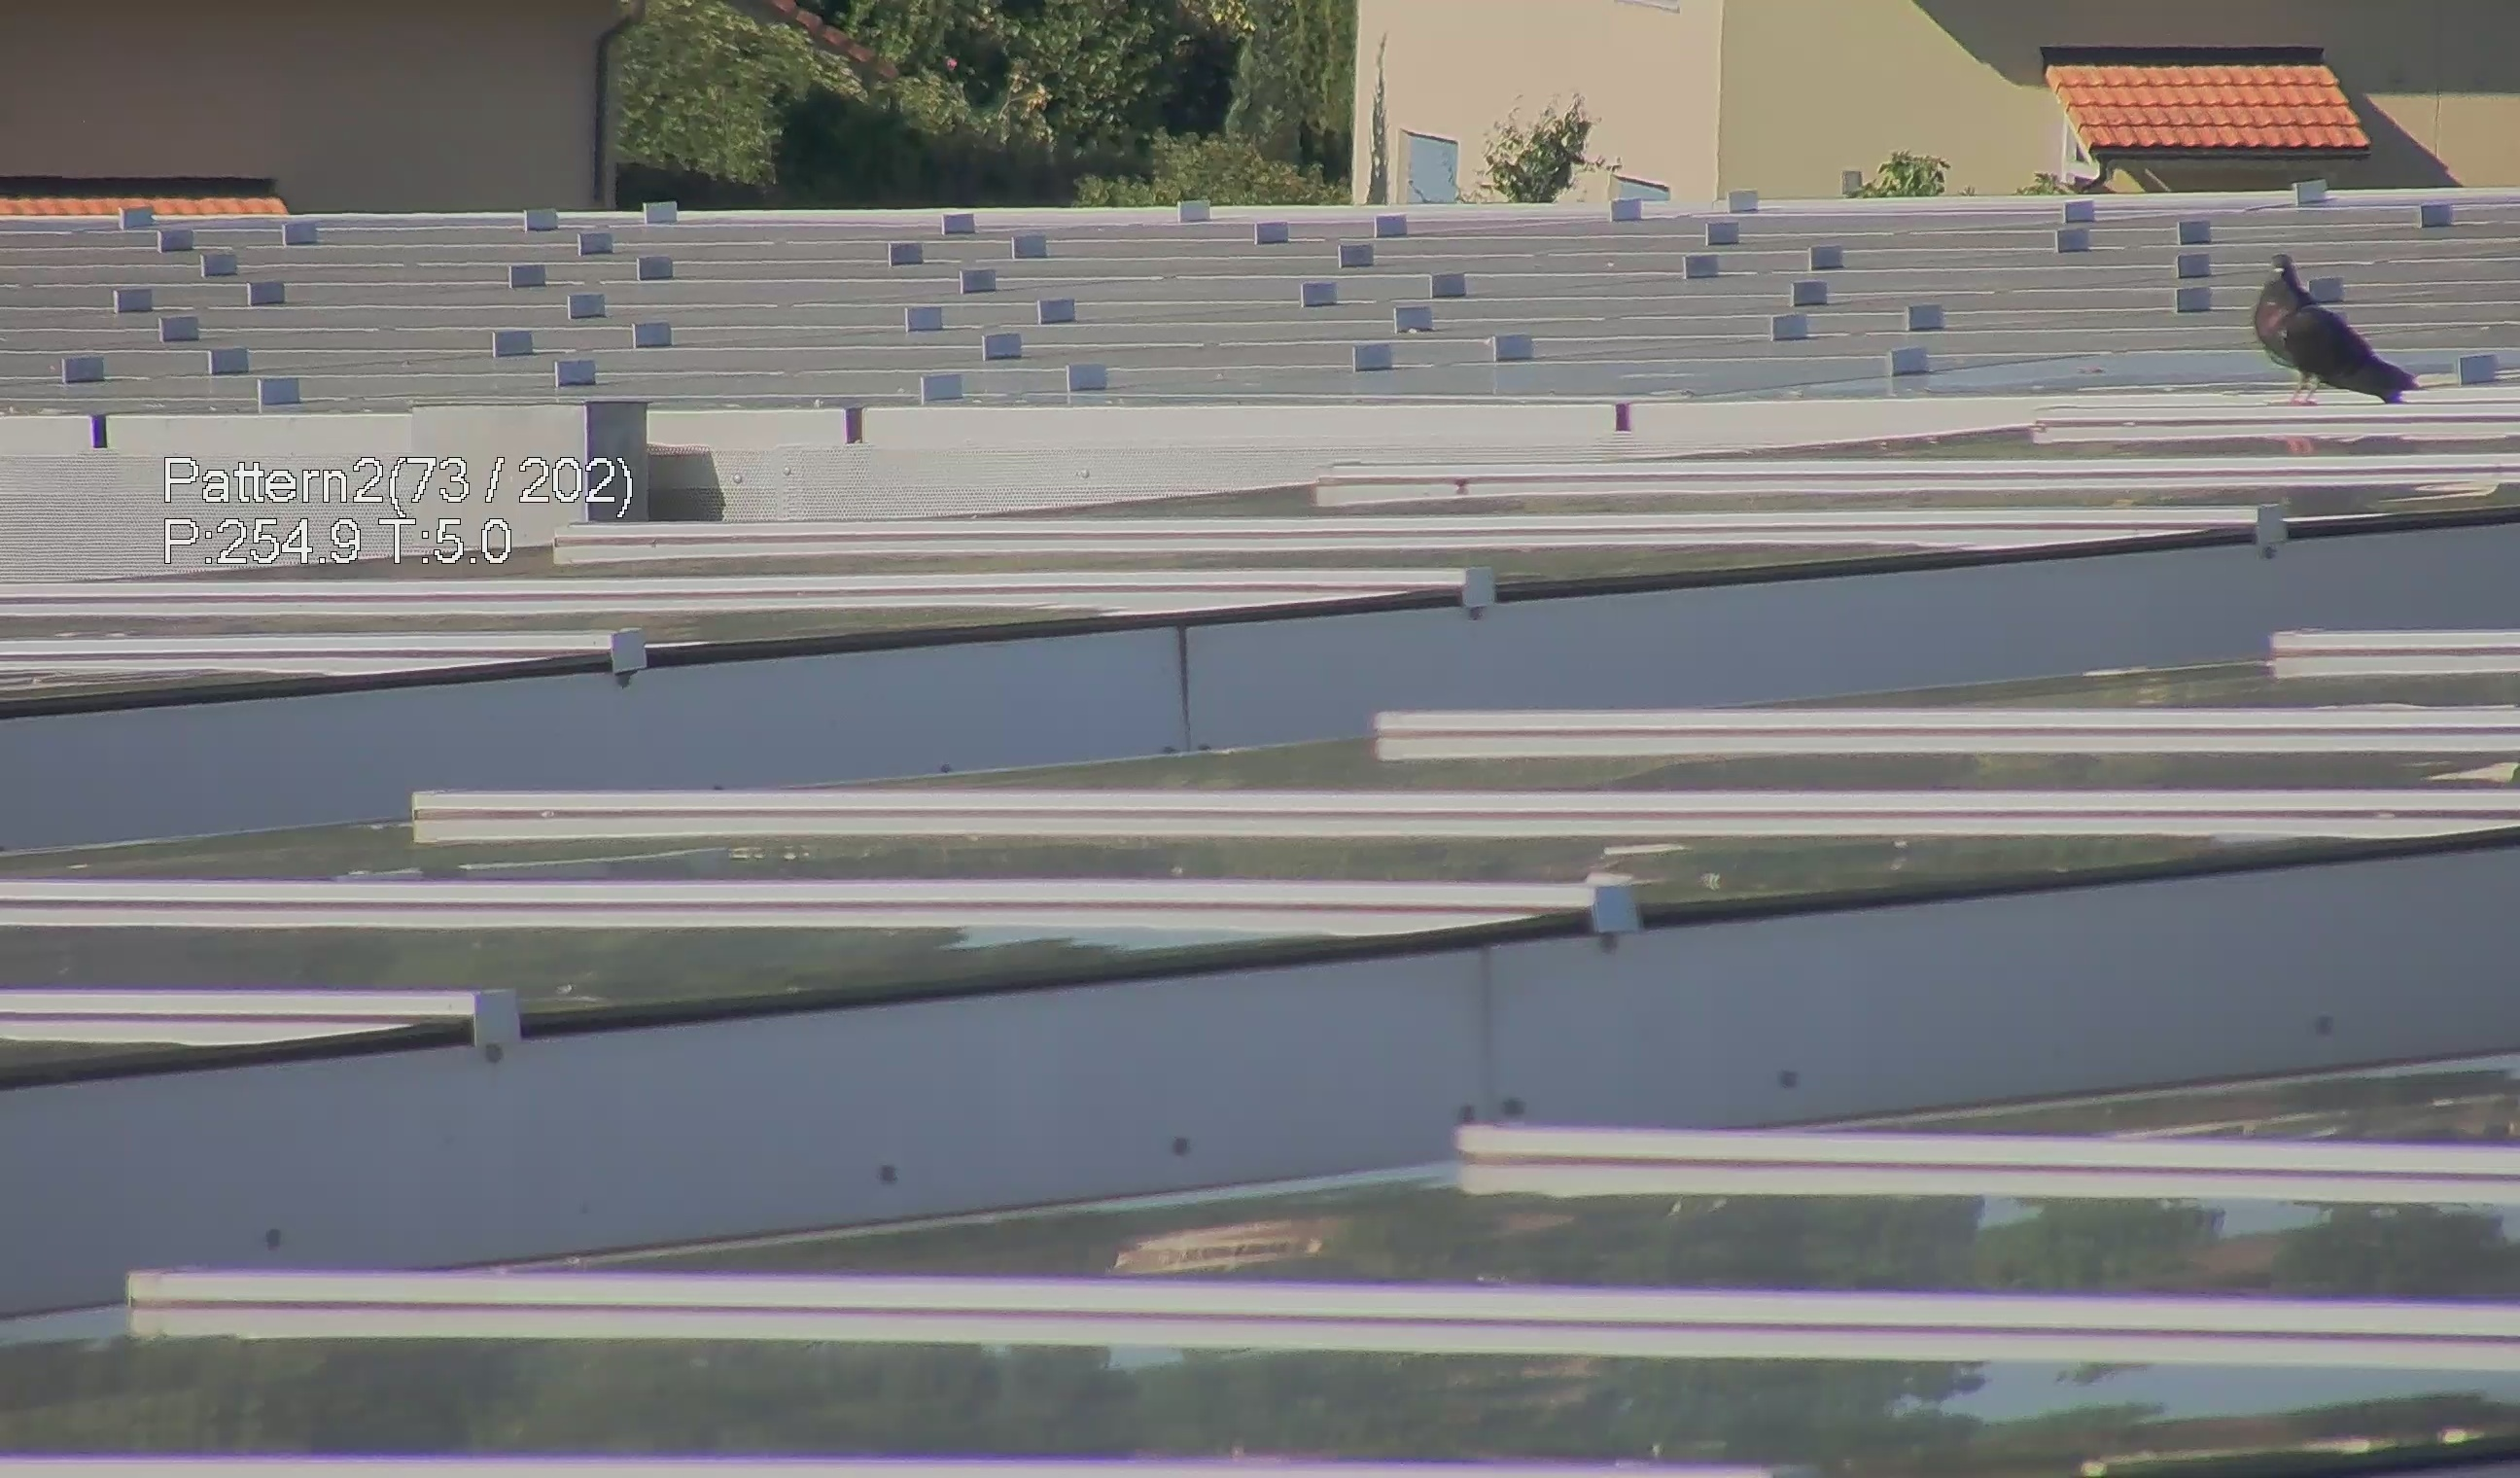Pigeon: (2253, 239, 2432, 417)
